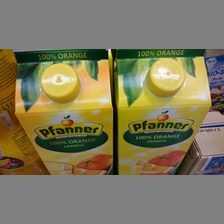juice: (14, 50, 116, 174), (115, 50, 212, 174)
